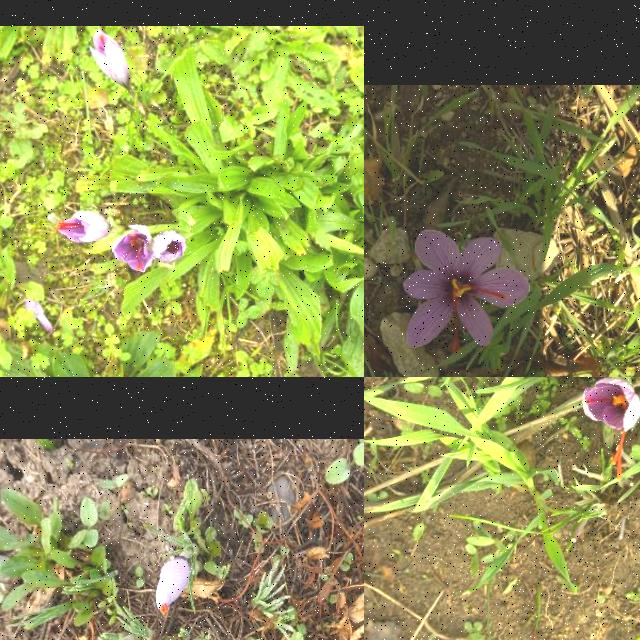flower: (403, 230, 532, 350), (581, 378, 640, 480), (112, 225, 188, 273), (88, 31, 132, 91), (155, 559, 191, 617), (54, 211, 114, 243), (112, 225, 152, 272), (152, 232, 188, 262)
